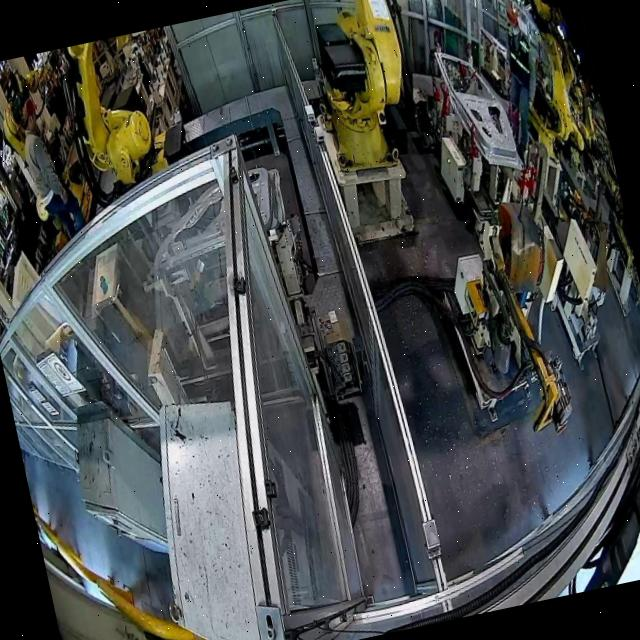Person: (13, 90, 88, 244)
